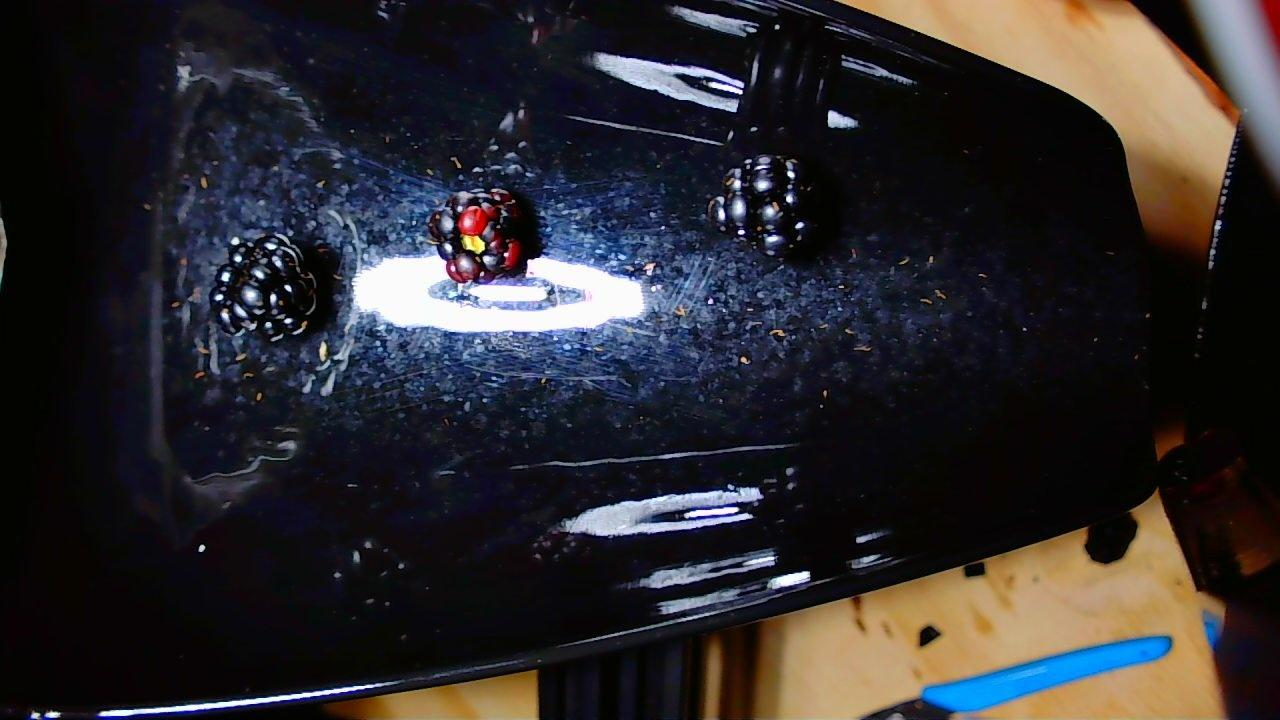berry: (208, 234, 317, 341), (708, 154, 816, 256), (429, 188, 531, 283)
